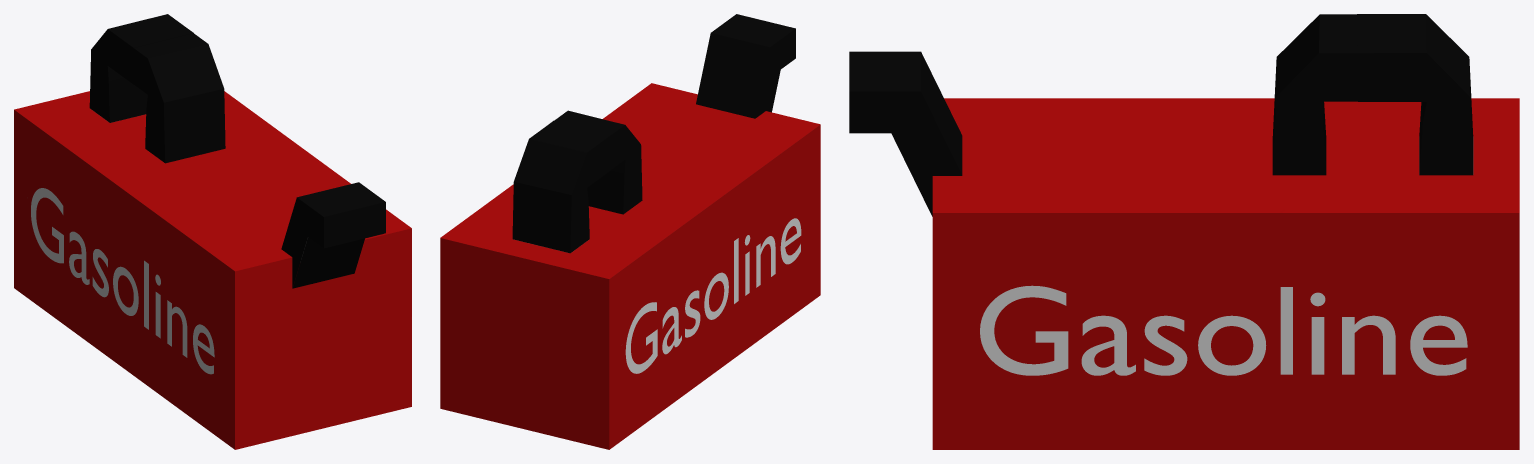
Rendered from fueltank.fbx.
The picture shows the model from 3 angles, left to right: view 1: azimuth 30°, elevation 25°; view 2: azimuth 150°, elevation 25°; view 3: azimuth 270°, elevation 25°; orthographic projection. The views are drawn at different scales.
Visible parts, largest first — view 1: Cube, Text; view 2: Cube, Text; view 3: Cube, Text.001.
Boxes of the visible parts, x1=… form: Cube: x1=14, y1=14, x2=411, y2=449; Text: x1=31, y1=188, x2=214, y2=374; Cube: x1=440, y1=14, x2=820, y2=449; Text: x1=625, y1=218, x2=801, y2=373; Cube: x1=849, y1=14, x2=1519, y2=449; Text.001: x1=980, y1=285, x2=1467, y2=375.
Bounding box in the file's own units: 158 × 230 × 389.
Materials: 1 (1 with a texture image).
